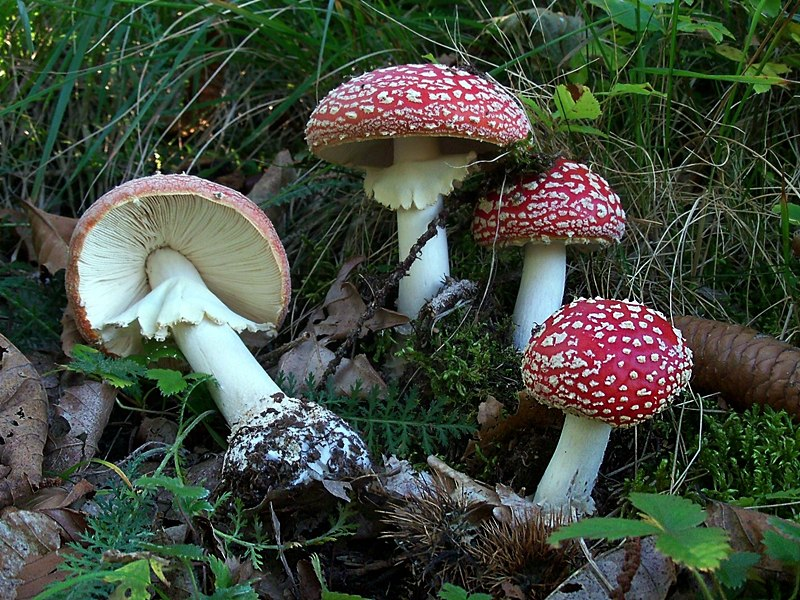bird: (60, 173, 382, 509)
